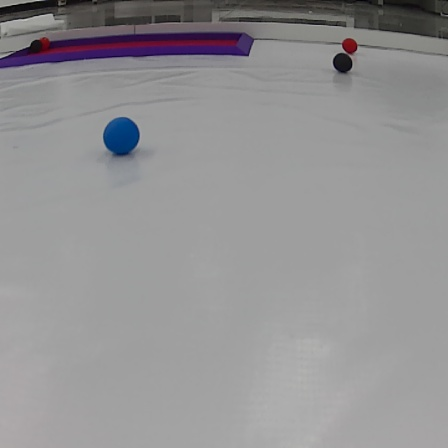black: (334, 53, 353, 73), (29, 41, 41, 53)
blue: (101, 119, 140, 152)
red: (343, 38, 359, 51)
red_aim: (0, 30, 252, 58)
